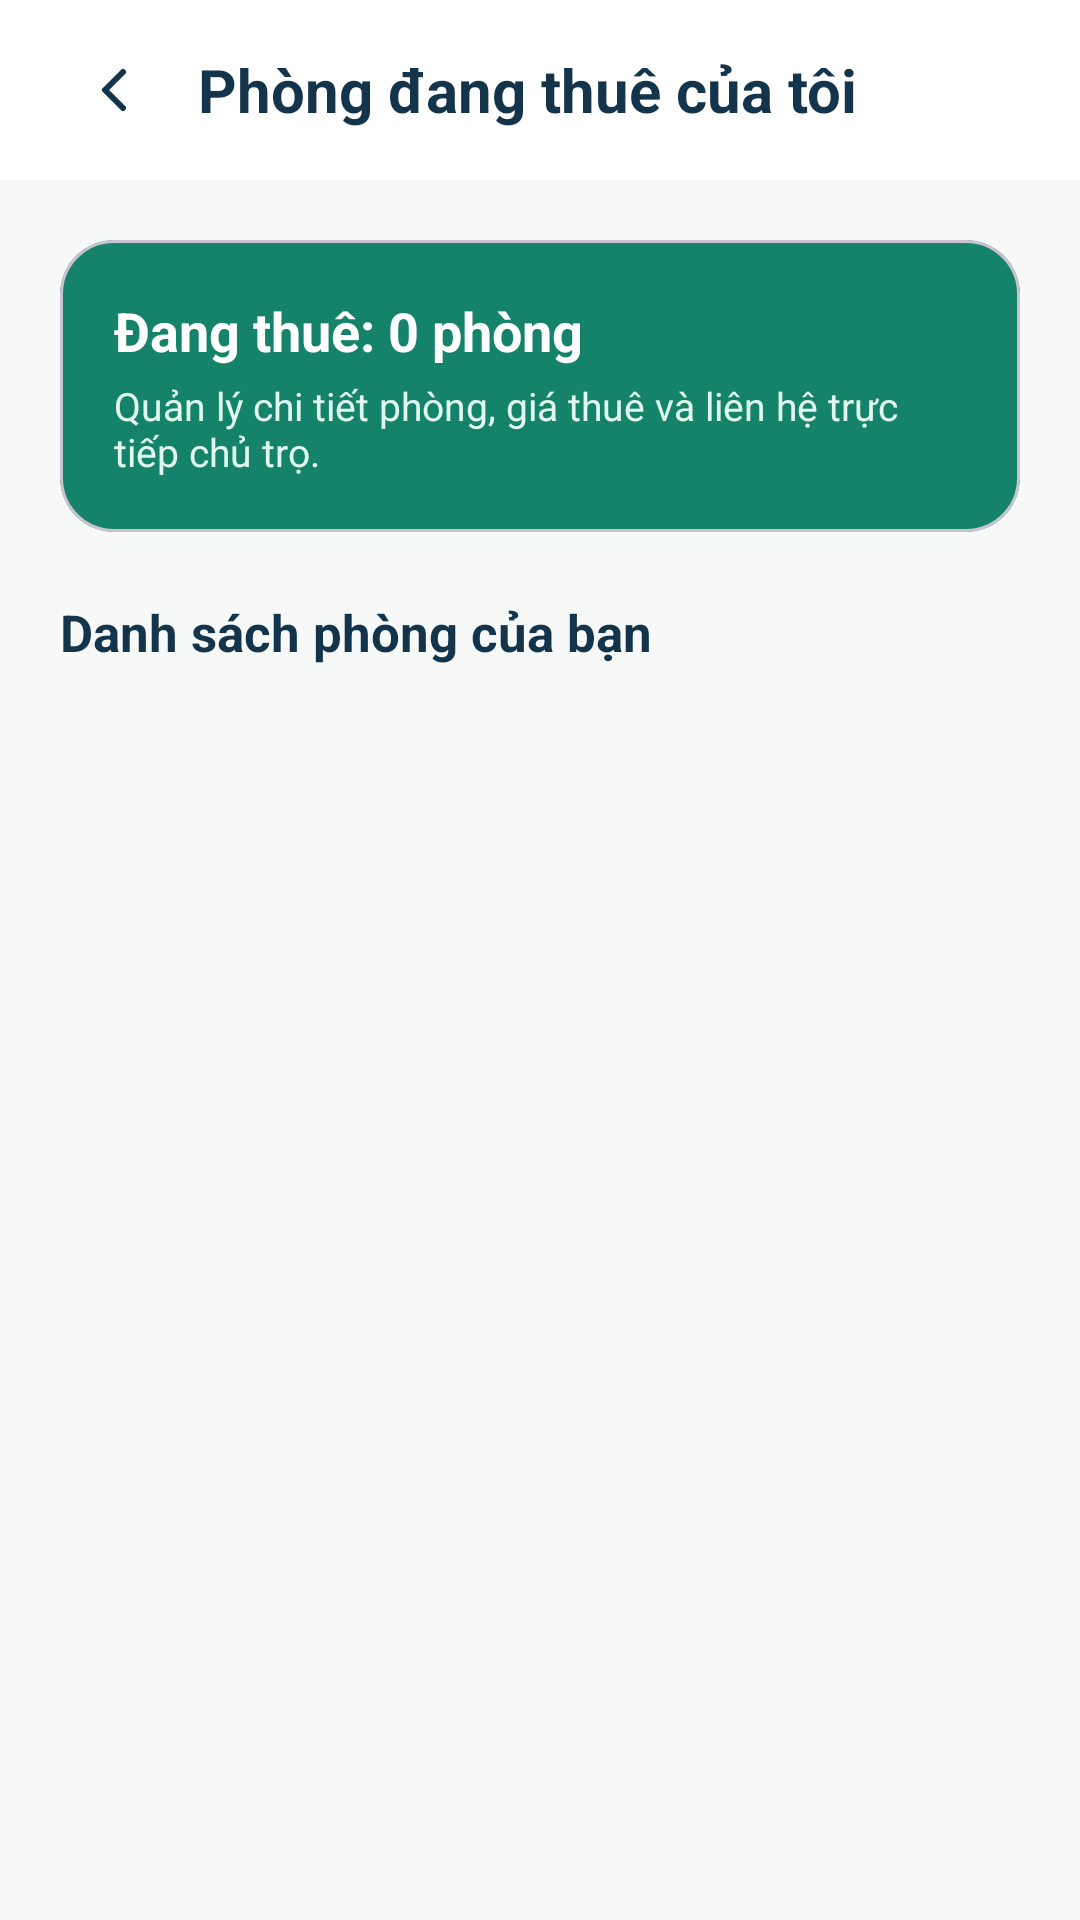

Where icons sit on this 1080x1920 app screen, as (x1, y1, x2, y2):
Quay lại: (102, 69, 126, 111)
